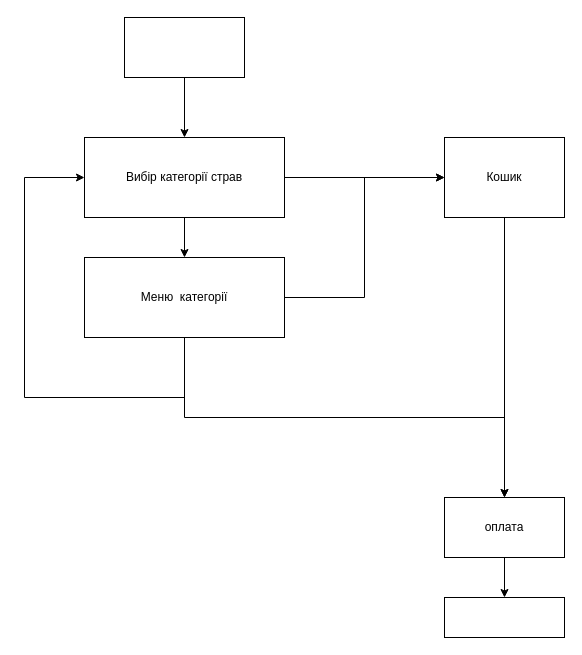
The diagram is 582 pixels wide and 655 high, and some of its shapes have lost their labels. Here are the shapes that lost their labels. From the top down, the box of each, then its label:
(124, 16, 244, 78): Вибір місця
(444, 596, 564, 638): вихід
